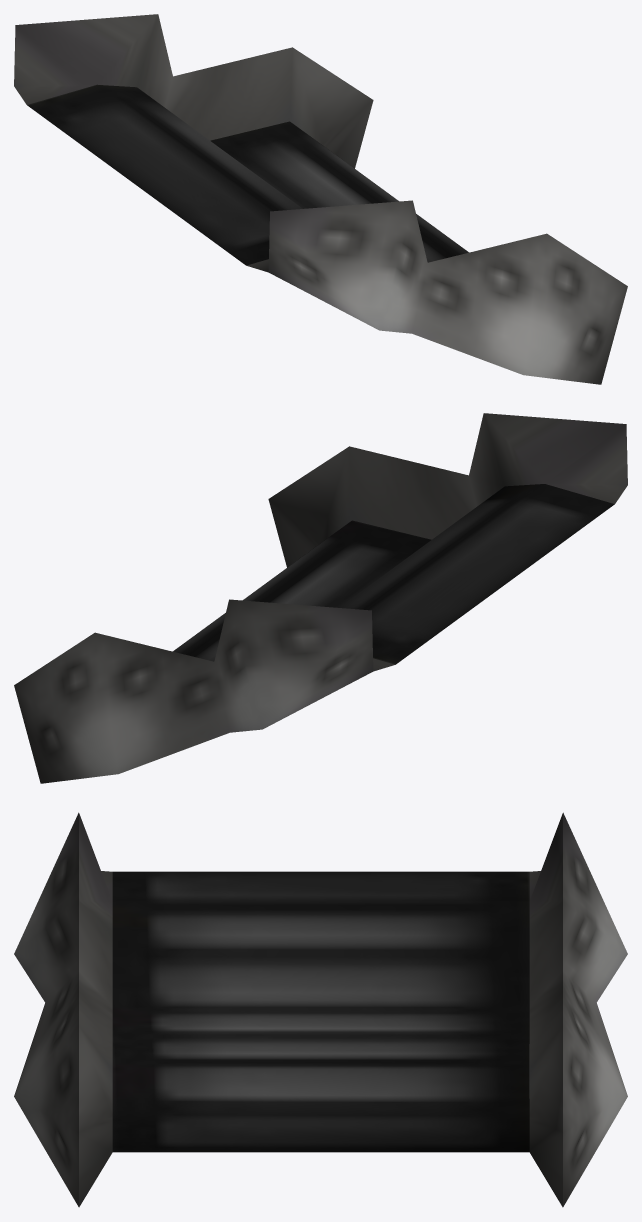
File: acc_25.glb
3 views of the same model, one above another, from view 1: azimuth 30°, elevation 25°; view 2: azimuth 150°, elevation 25°; view 3: azimuth 270°, elevation 25° (orthographic). The views are drawn at different scales.
Visible parts, largest first — view 1: polySurface3; view 2: polySurface3; view 3: polySurface3.
Part boxes in pixels (box(x1,y1,x2,y2)): polySurface3: box(14, 14, 627, 384); polySurface3: box(14, 413, 627, 783); polySurface3: box(14, 812, 627, 1207).
Size of the model in its own units: 0.4274 by 0.2851 by 0.6561.
1 material, 1 textured.
